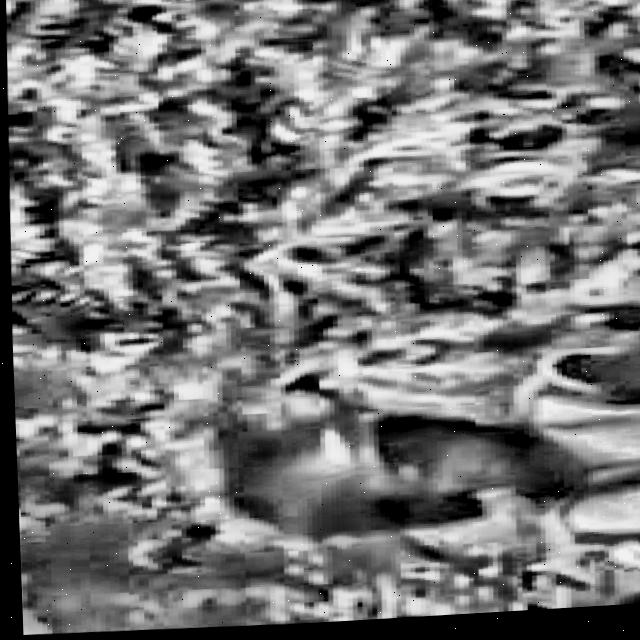Lori: (169, 161, 640, 632)
